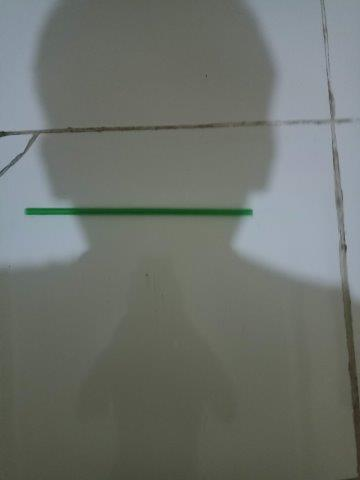sedotan: (25, 208, 253, 217)
